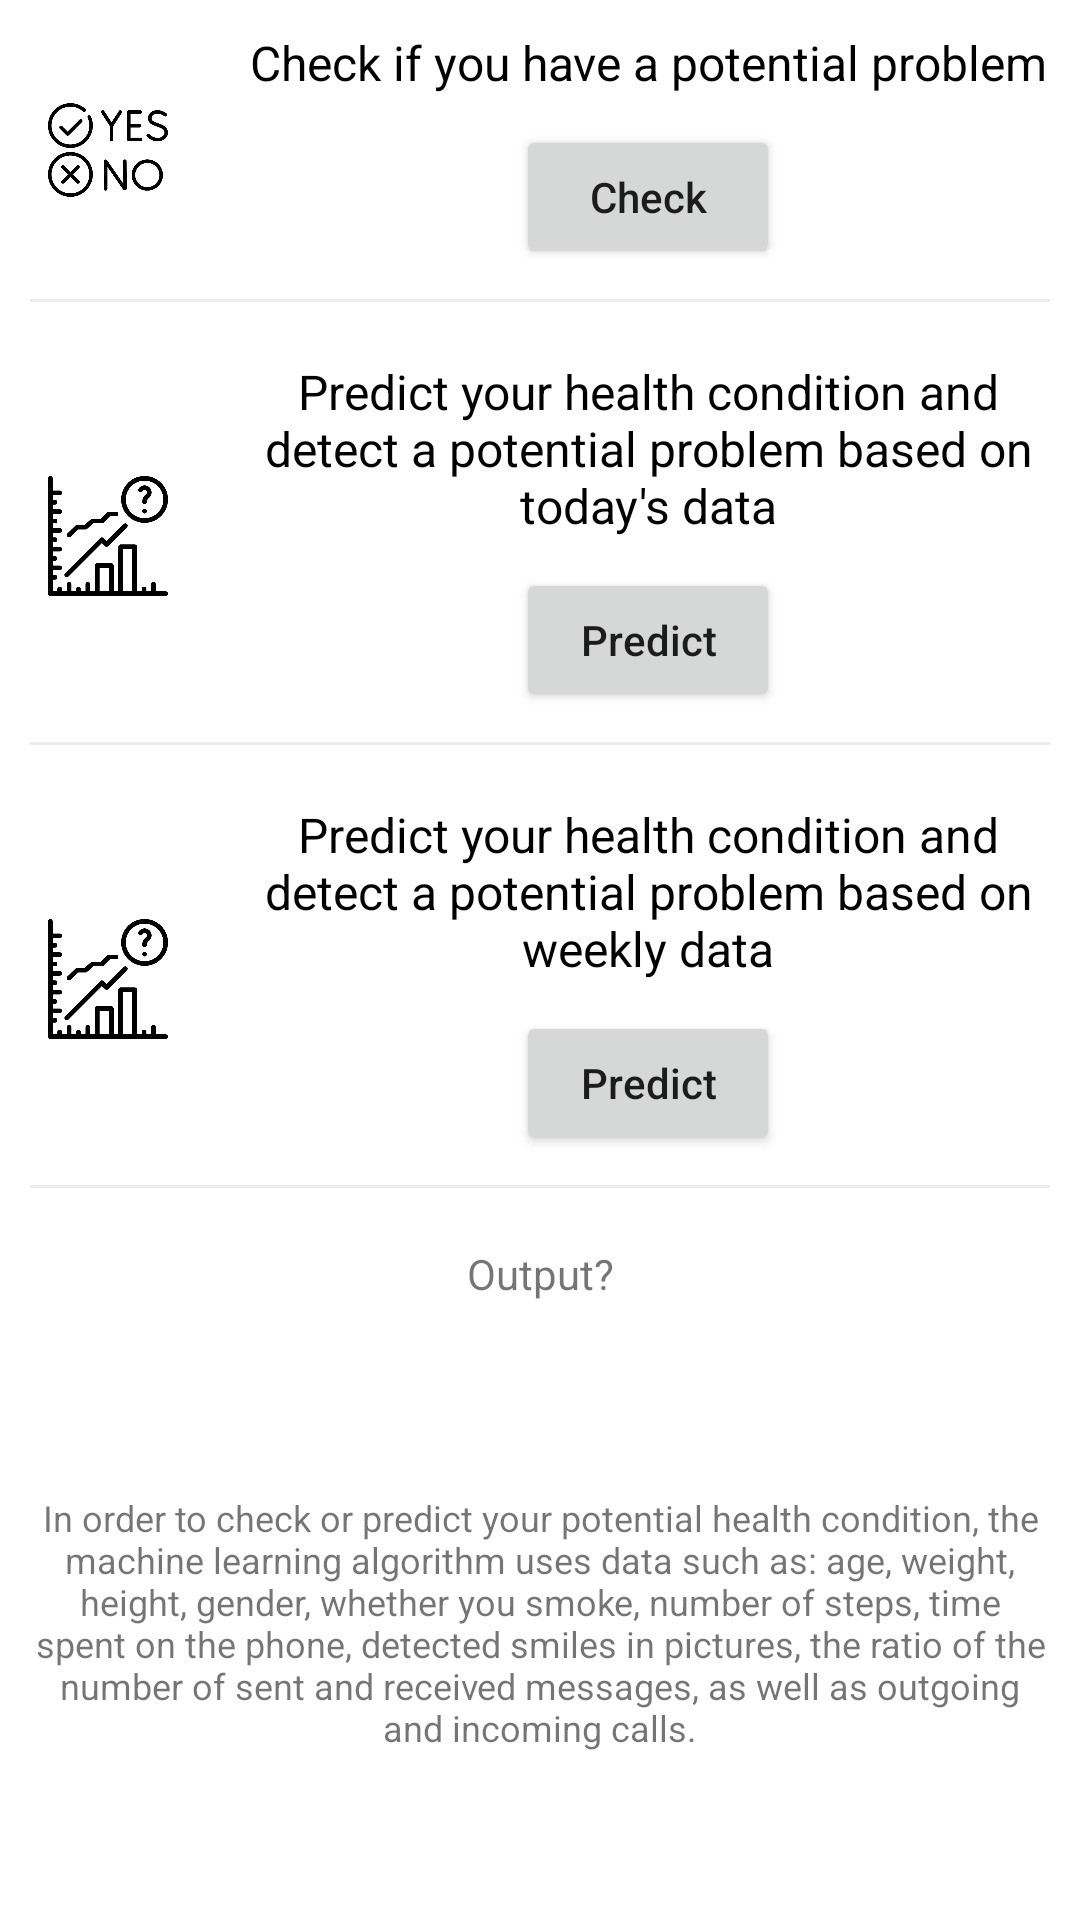

Where to tap for icons on this 1080px×1920px app screen, as (x=x, y=y):
prediction: (x=108, y=536), (x=108, y=979)
